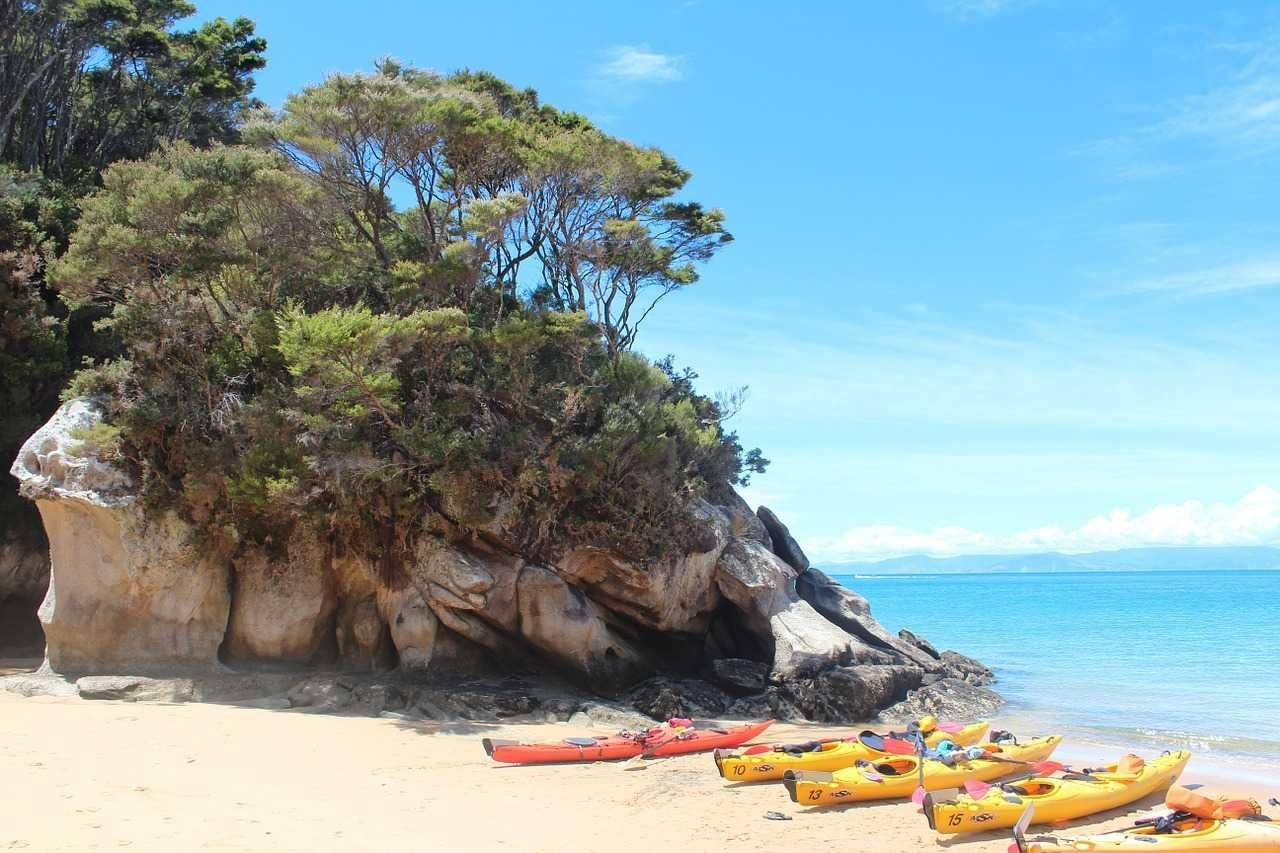kayak: (919, 748, 1193, 842), (783, 739, 1062, 809), (714, 737, 909, 783), (481, 727, 659, 765), (645, 717, 778, 758)
